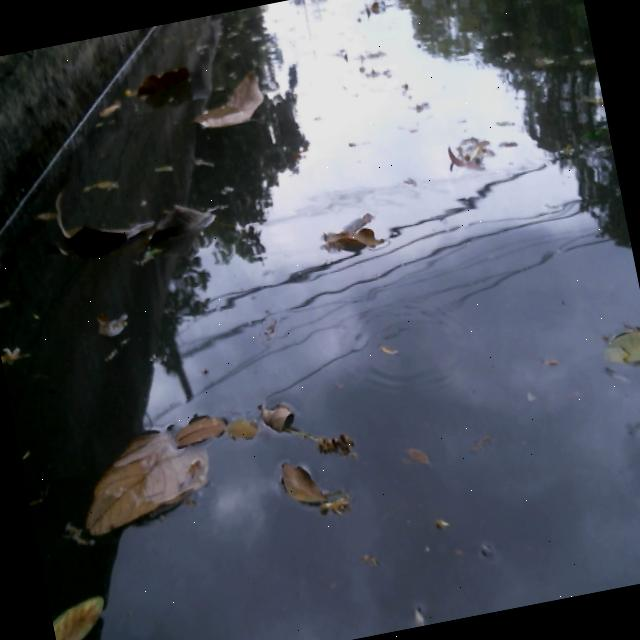Big-leaf: (71, 415, 216, 541), (38, 180, 156, 264), (180, 53, 277, 143), (142, 190, 226, 252), (123, 61, 195, 103)
Small-leaf: (312, 209, 389, 271), (49, 591, 112, 640), (259, 390, 312, 446), (278, 455, 328, 511), (169, 410, 227, 451), (439, 135, 494, 178), (96, 304, 141, 356), (600, 318, 640, 374), (312, 427, 358, 464), (318, 484, 358, 526), (222, 409, 261, 448), (394, 442, 434, 475), (97, 93, 126, 125), (354, 0, 388, 24), (0, 338, 28, 366)
